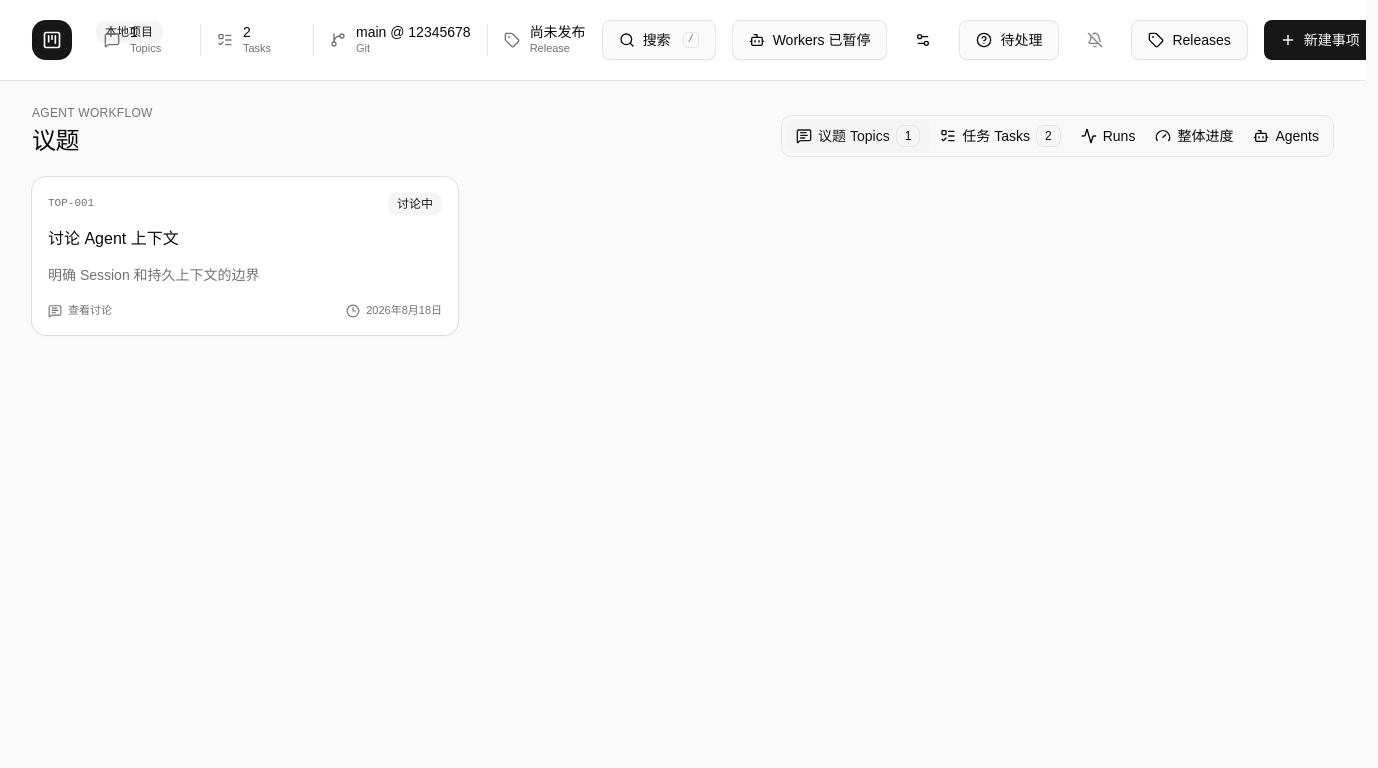
Test: App › 可以查看整体进度与 Agent 配置
Check: the text "讨论 Agent 上下文" is shown, box [48,230,179,247]
Click the tab "整体进度" at (1194, 136), box [1145,120,1243,152]
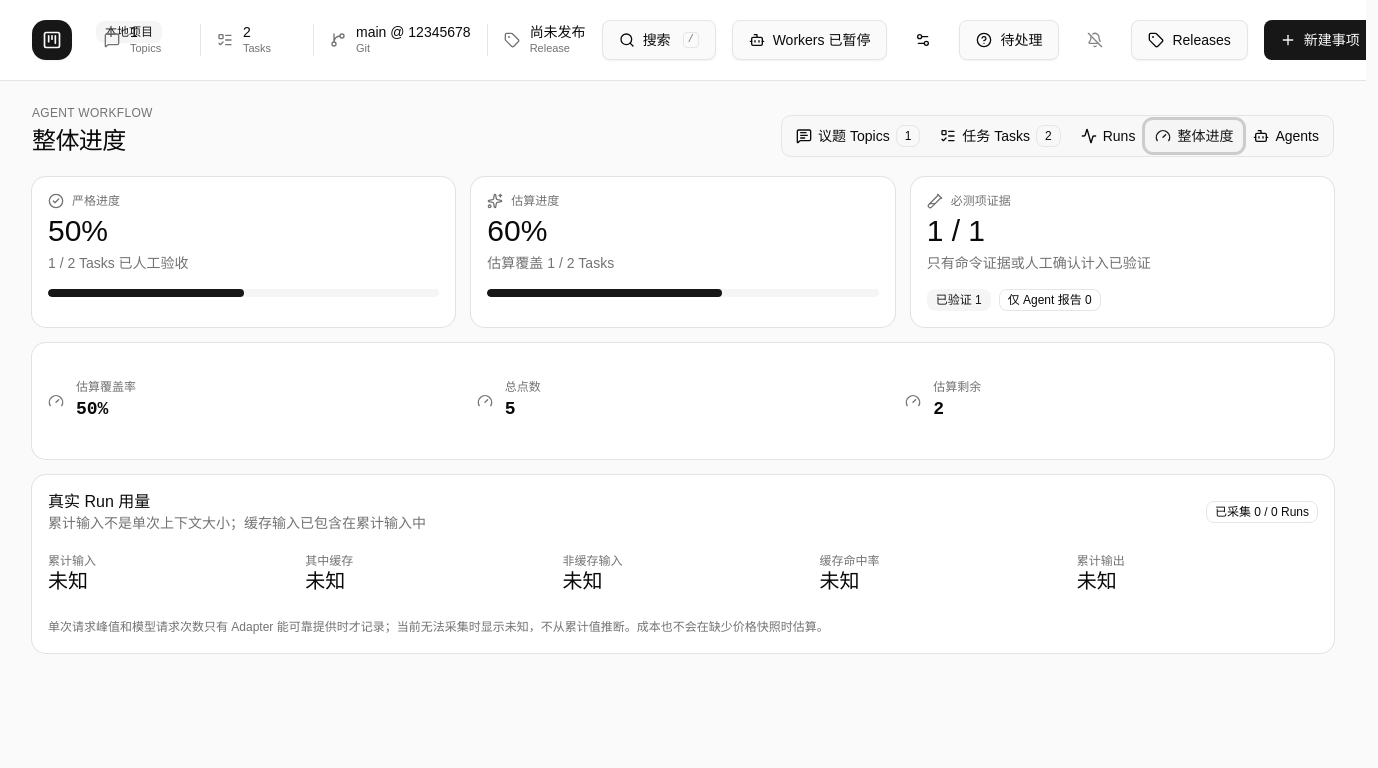
Check: the element named "项目整体进度" is shown
Check: the text "60%" is shown, box [487,214,547,247]
Click the tab "Agents" at (1286, 136), box [1243,120,1329,152]
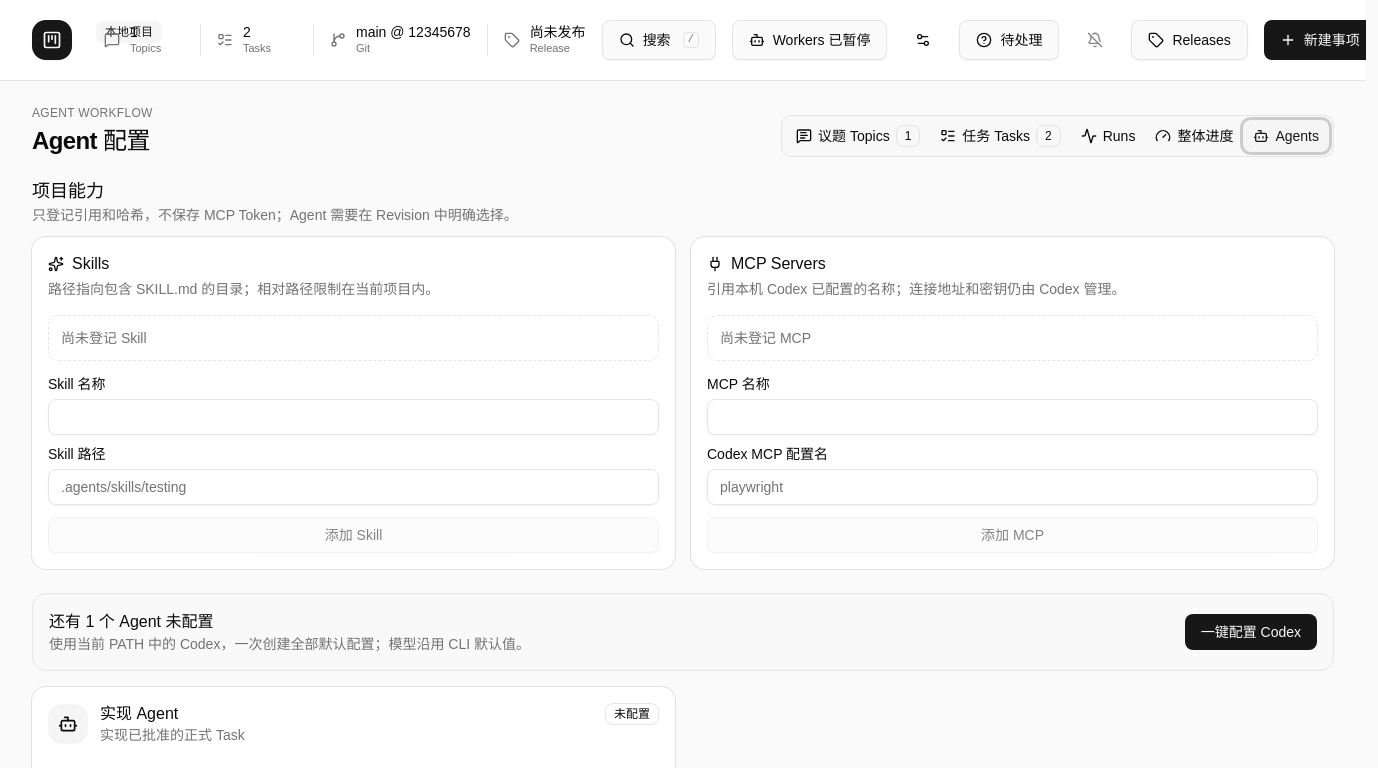
Check: the text "实现 Agent" is shown, box [100,705,178,722]
Check: the text "未配置" is shown, box [605,703,659,725]
